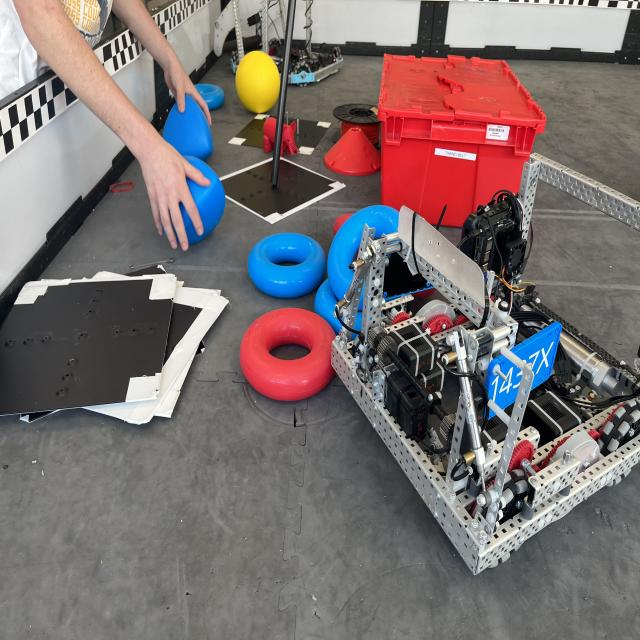Blue-Ring: (328, 205, 399, 300), (248, 233, 326, 298), (314, 280, 341, 335), (195, 83, 225, 110)
Red-Ring: (240, 308, 335, 402)
